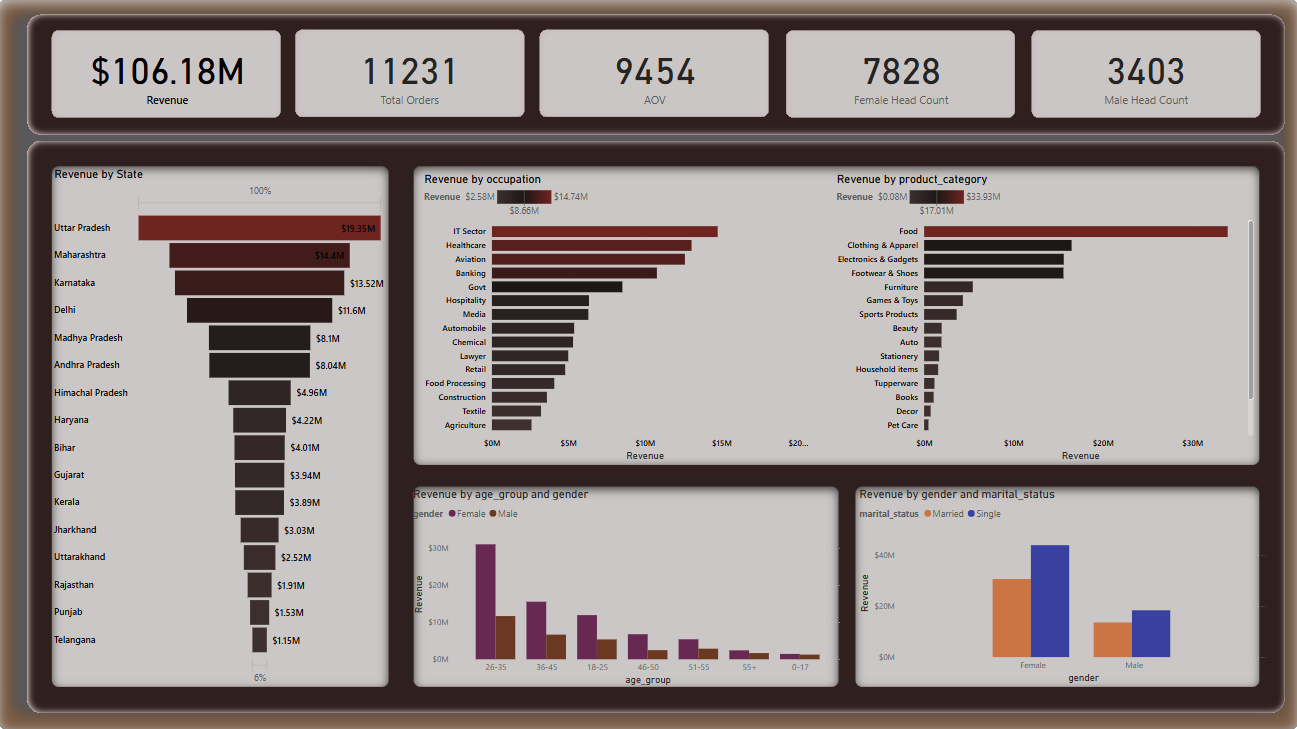

This screenshot's page, from the dashboard's own definition file:
{"tool":"powerbi","page":{"name":"Page 1","canvas":[1920,1080],"ordinal":0},"visuals":[{"type":"card","fields":{"Values":["public diwali_sales.Revenue"]},"box":[80,48,344,128],"z":0},{"type":"card","fields":{"Values":["public diwali_sales.Total Orders"]},"box":[440,48,336,128],"z":1000},{"type":"card","fields":{"Values":["public diwali_sales.AOV"]},"box":[800,48,336,128],"z":2000},{"type":"card","fields":{"Values":["public diwali_sales.Female Count"]},"box":[1160,48,344,128],"z":3000},{"type":"card","fields":{"Values":["public diwali_sales.Male Count"]},"box":[1520,48,344,128],"z":4000},{"type":"funnel","fields":{"Y":["public diwali_sales.Revenue"],"Category":["public diwali_sales.state"]},"box":[80,248,496,768],"z":5000},{"type":"clusteredBarChart","fields":{"Category":["public diwali_sales.occupation"],"Y":["public diwali_sales.Revenue"]},"box":[624,256,576,432],"z":6000},{"type":"clusteredBarChart","fields":{"Category":["public diwali_sales.product_category"],"Y":["public diwali_sales.Revenue"]},"box":[1232,256,624,432],"z":7000},{"type":"lineClusteredColumnComboChart","fields":{"Y":["public diwali_sales.Revenue"],"Category":["public diwali_sales.age_group"],"Series":["public diwali_sales.gender"]},"box":[608,720,640,298],"z":8000},{"type":"lineClusteredColumnComboChart","fields":{"Y":["public diwali_sales.Revenue"],"Category":["public diwali_sales.gender"],"Series":["public diwali_sales.marital_status"]},"box":[1264,720,608,295],"z":9000}]}

Visuals, with their boxes in screenshot pixels (x1, y1, x2, y2), scaled from the page's 1920x1080 canvas onto the 1297x729 screenshot:
card - public diwali_sales.Revenue: [54,32,286,119]
card - public diwali_sales.Total Orders: [297,32,524,119]
card - public diwali_sales.AOV: [540,32,767,119]
card - public diwali_sales.Female Count: [784,32,1016,119]
card - public diwali_sales.Male Count: [1027,32,1259,119]
funnel - public diwali_sales.Revenue x public diwali_sales.state: [54,167,389,686]
clusteredBarChart - public diwali_sales.occupation x public diwali_sales.Revenue: [422,173,811,464]
clusteredBarChart - public diwali_sales.product_category x public diwali_sales.Revenue: [832,173,1254,464]
lineClusteredColumnComboChart - public diwali_sales.Revenue x public diwali_sales.age_group: [411,486,843,687]
lineClusteredColumnComboChart - public diwali_sales.Revenue x public diwali_sales.gender: [854,486,1265,685]
